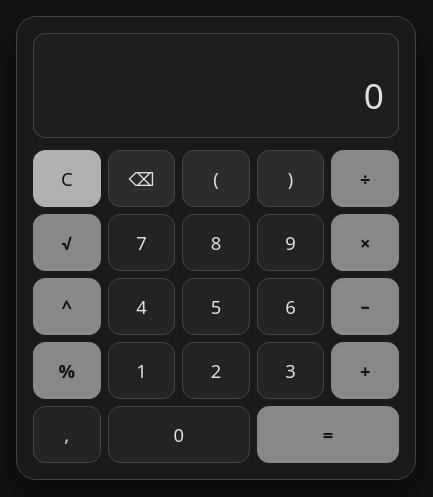
Scenario: exponentiation, roots, percent and parentheses › reports a negative square root
Click the button named "square root" at (67, 242), box 33,214 -> 101,271
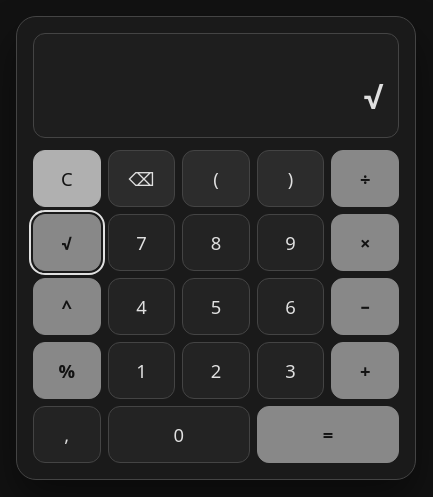
Type keys "(0-4){Enter}"
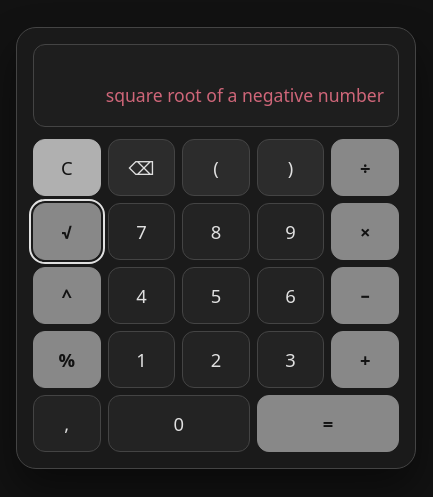
Now the text "square root of a negative number" is shown, box 106,83 -> 384,107
